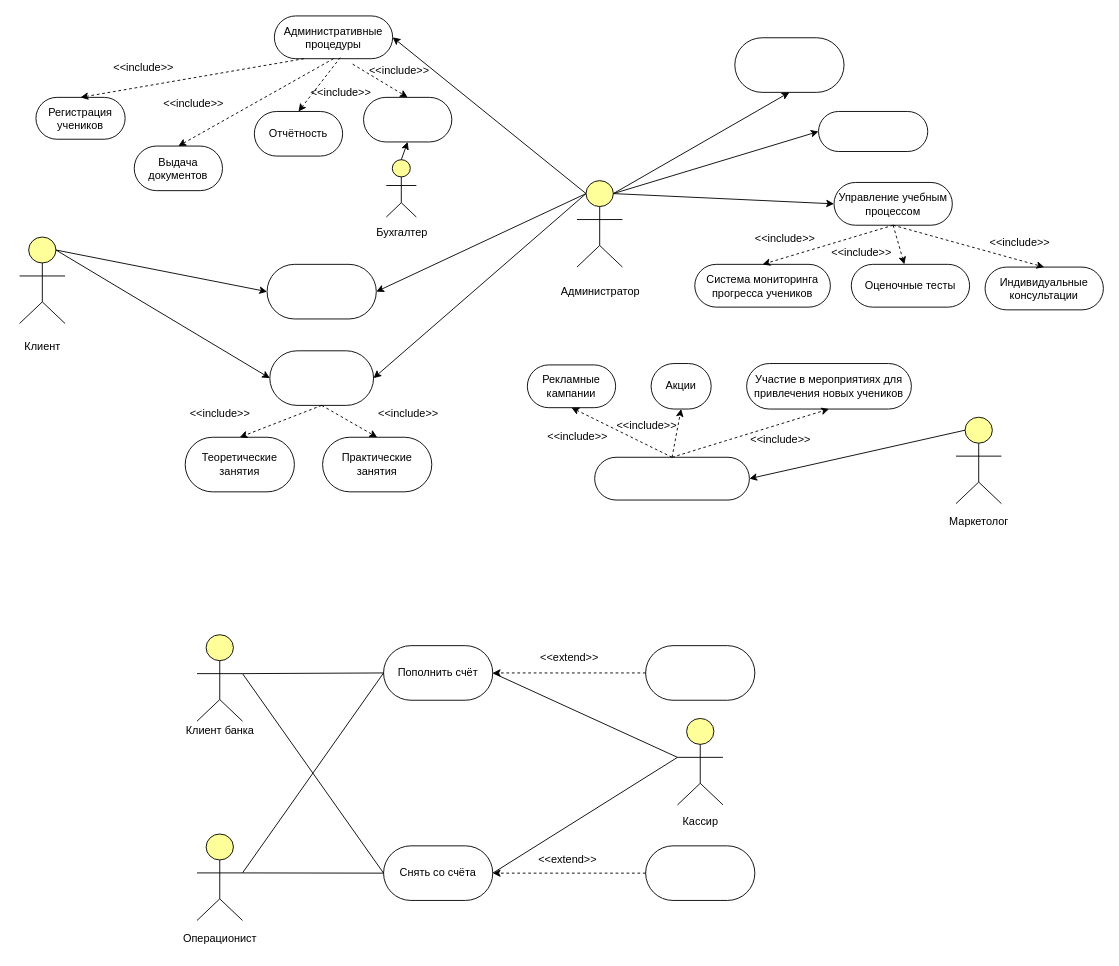
Image size: 1119x966. Some labels were removed from this diagram. Here are the shapes that lost their labels. From the top down, the centre of each, then its label:
At point 789,64: "Инструкторский состав".
At point 407,119: "Финансковый учёт".
At point 873,131: "Безопасность".
At point 321,291: "Расписание занятий".
At point 321,377: "Учебные программы".
At point 671,478: "Маркетинг и привлечение клиентов".
At point 700,672: "Открыть счёт".
At point 700,872: "Закрыть счёт".
